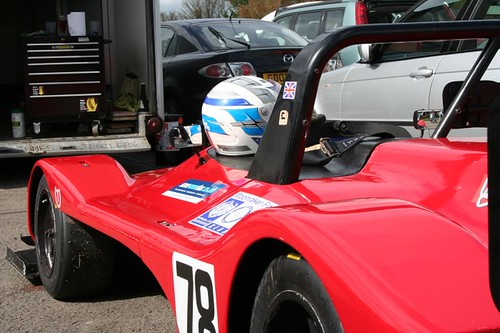helmet: (200, 64, 278, 158)
